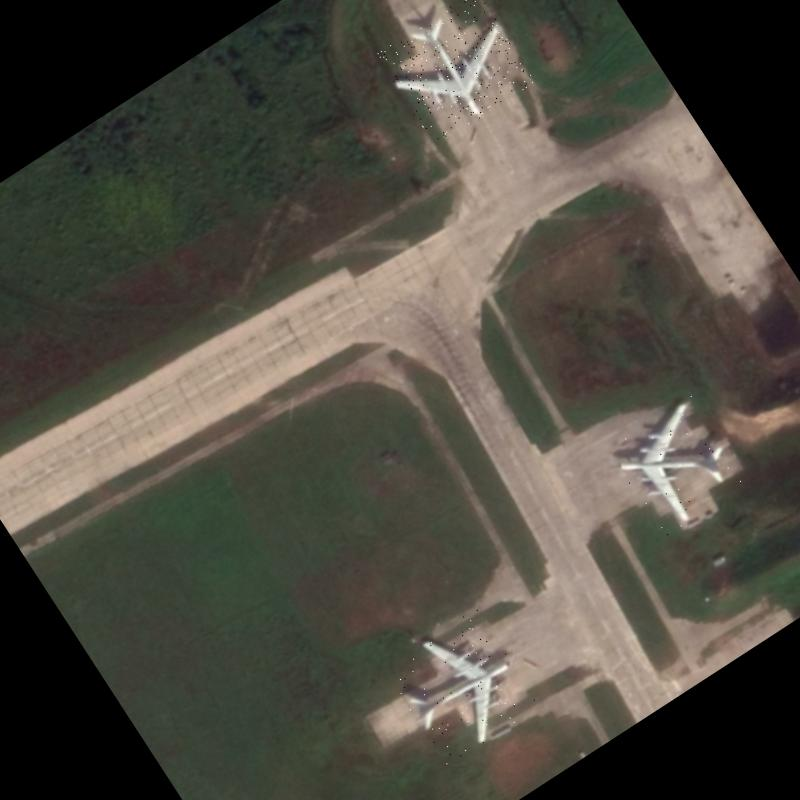A17: (383, 606, 542, 766), (375, 0, 537, 148), (606, 393, 748, 537)
